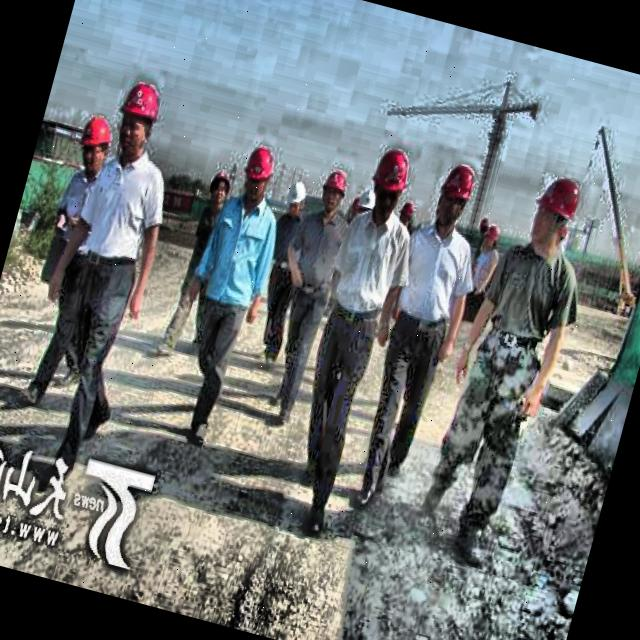helmet: (524, 168, 590, 260), (106, 72, 170, 166), (430, 156, 482, 237), (365, 146, 416, 225), (236, 140, 284, 208), (70, 108, 116, 176), (314, 160, 356, 217), (202, 160, 236, 211), (282, 172, 313, 219), (477, 218, 506, 254)
